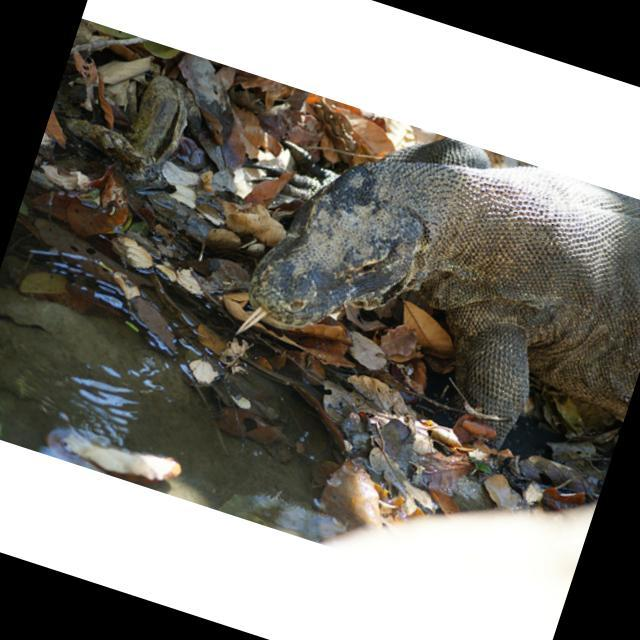KomodoDragon: (222, 93, 640, 486)
